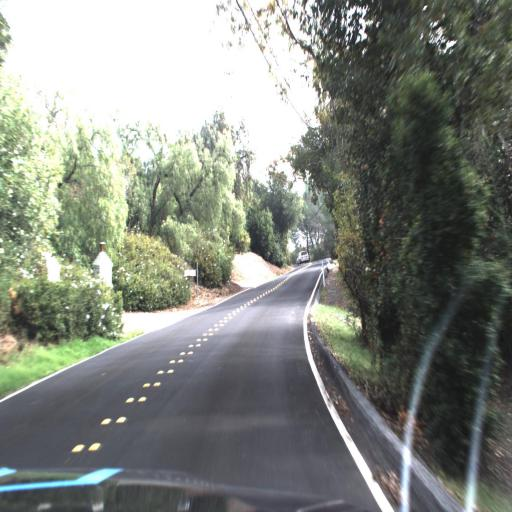car: (293, 246, 316, 270), (293, 242, 309, 266)
